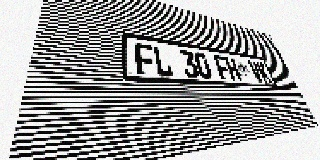0: (193, 52, 213, 79)
3: (179, 50, 200, 78)
F: (134, 43, 156, 76), (213, 55, 232, 80)
H: (224, 56, 242, 81)
K: (255, 61, 272, 83)
L: (152, 45, 174, 77)
V: (247, 60, 264, 82)
